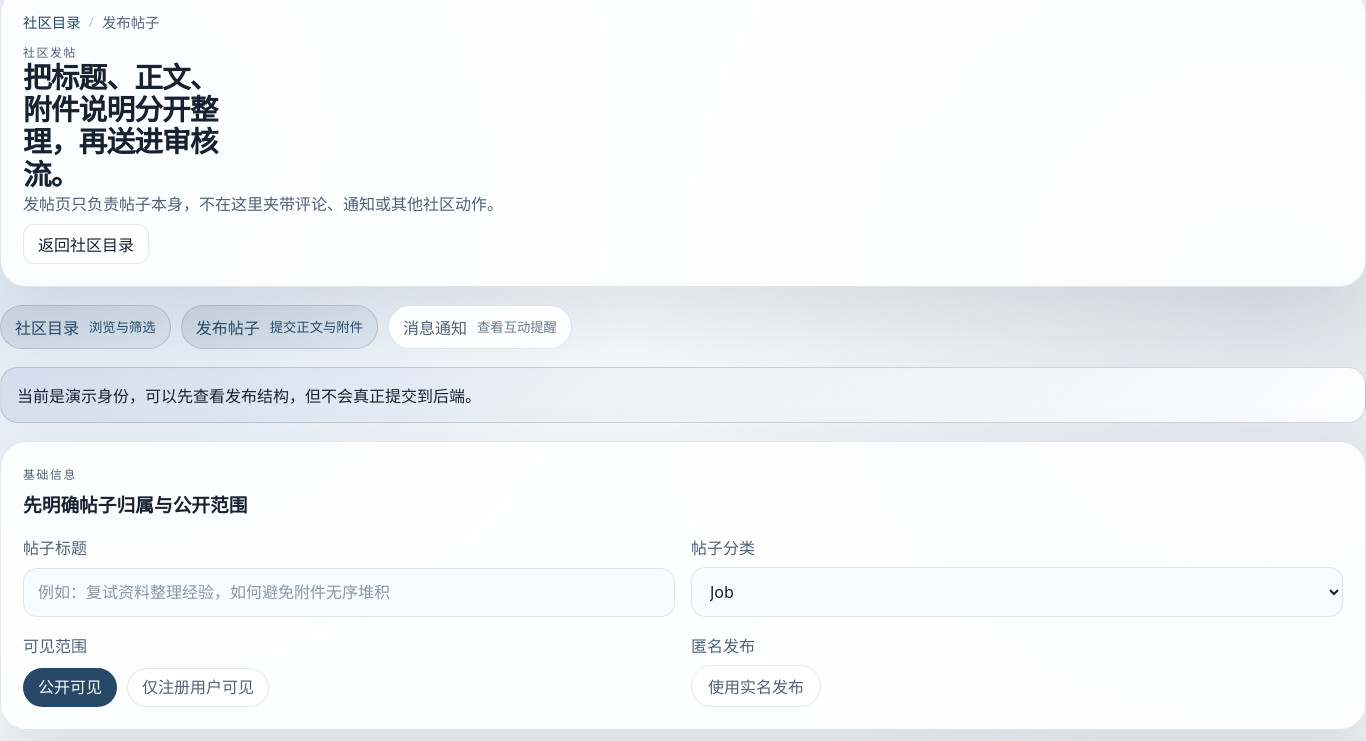
Scenario: CommunityComposerPage › shows a dialog for demo accounts when they try to submit
Expected: the dropdown is shown, [691, 567, 1343, 617]
Type "Demo Draft" into the field labelled "帖子标题" at (349, 592), box [23, 568, 675, 617]
(page scrolled)
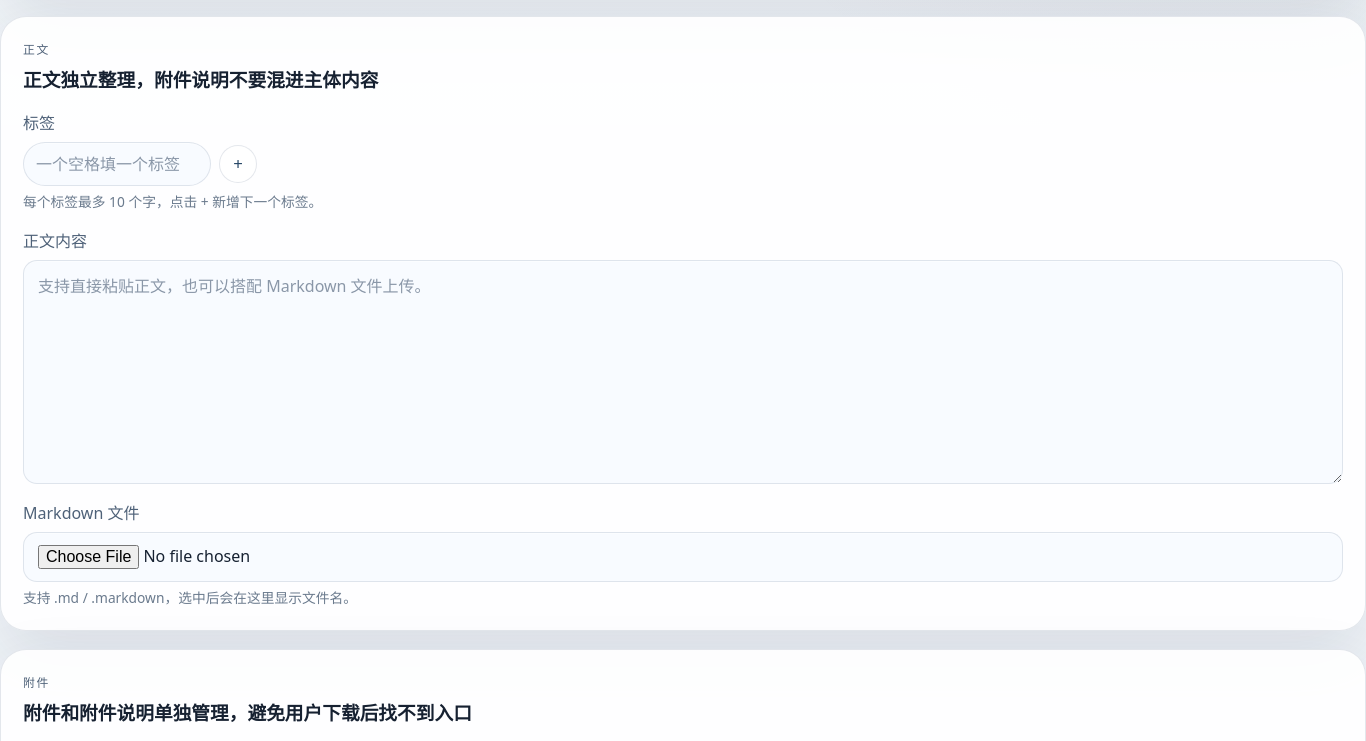
Type "Demo content body" into the text box labelled "正文内容" at (683, 372), box [23, 260, 1343, 484]
(page scrolled)
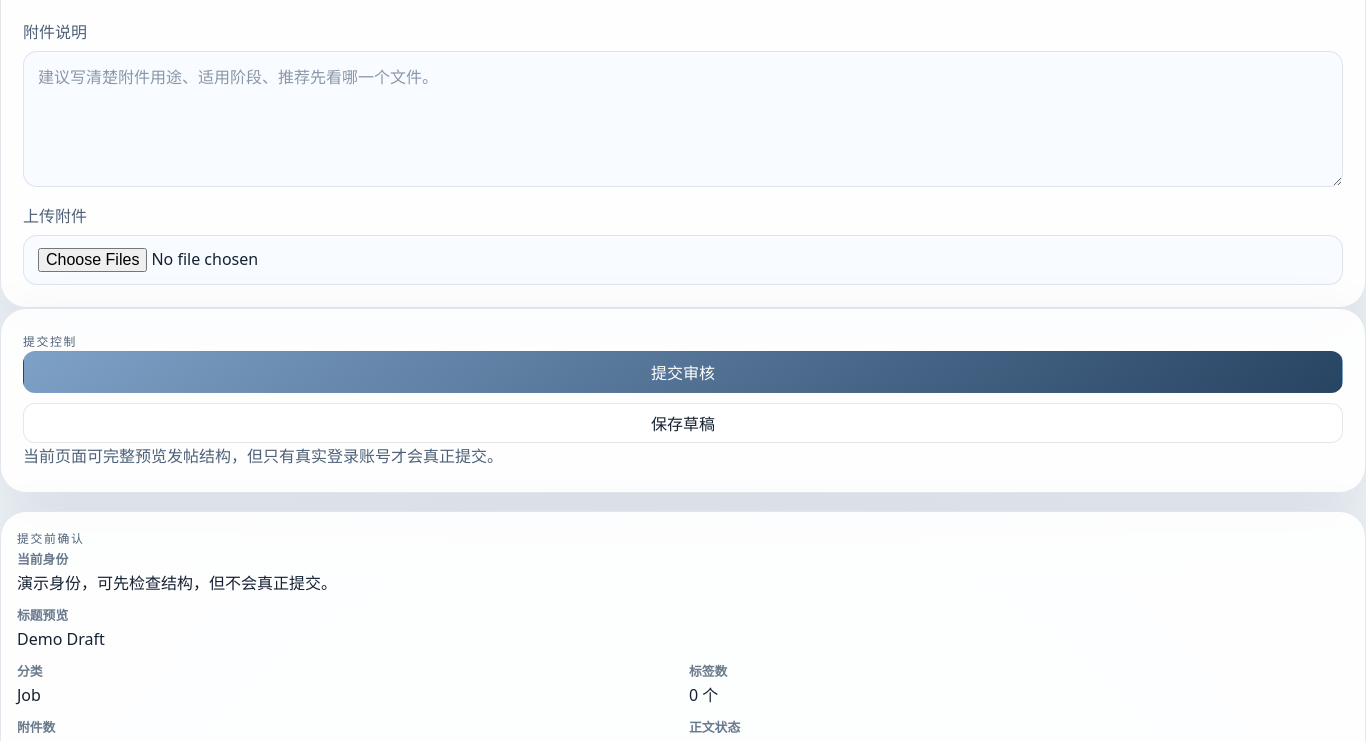
Click the button "提交审核" at (683, 372), box [23, 351, 1343, 393]
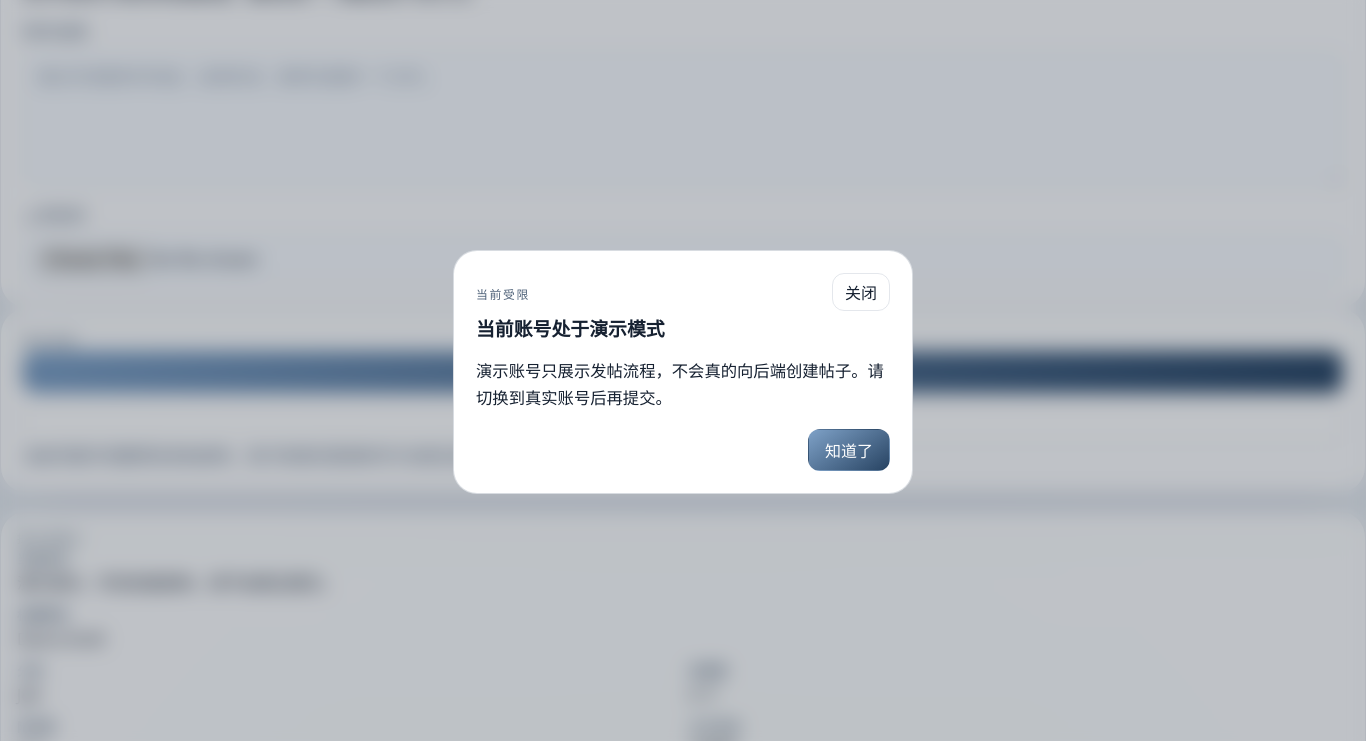
Now the heading "当前账号处于演示模式" is shown, box [476, 314, 665, 342]
Now the text "演示账号只展示发帖流程，不会真的向后端创建帖子。请切换到真实账号后再提交。" is shown, box [476, 358, 890, 413]
